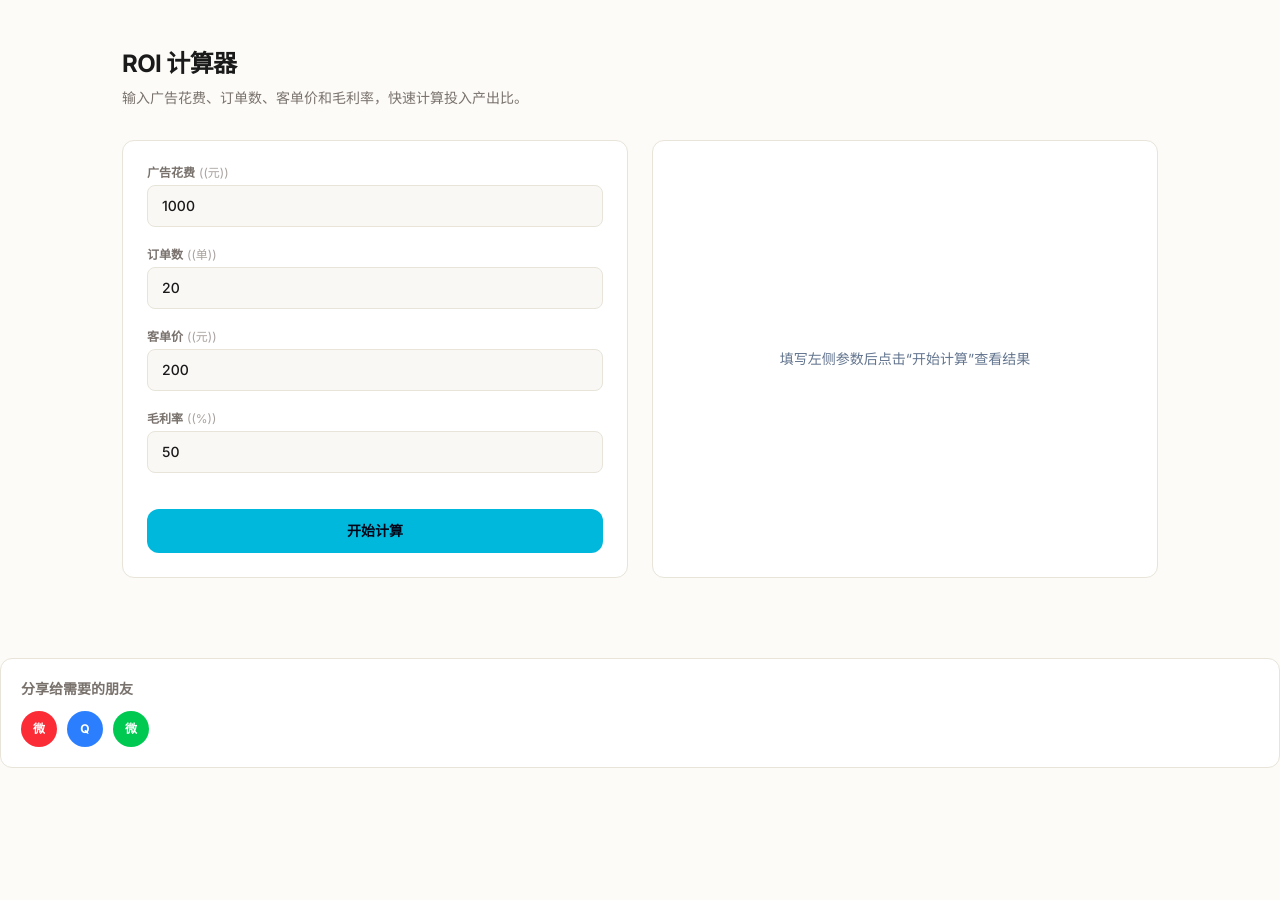
RoiCalculatorPage › recalculates when inputs change and button is clicked
# clear adSpend and type a new value
Replace the text in the number field labelled "广告花费((元))" with "500" at (375, 206), box [147,185,603,227]
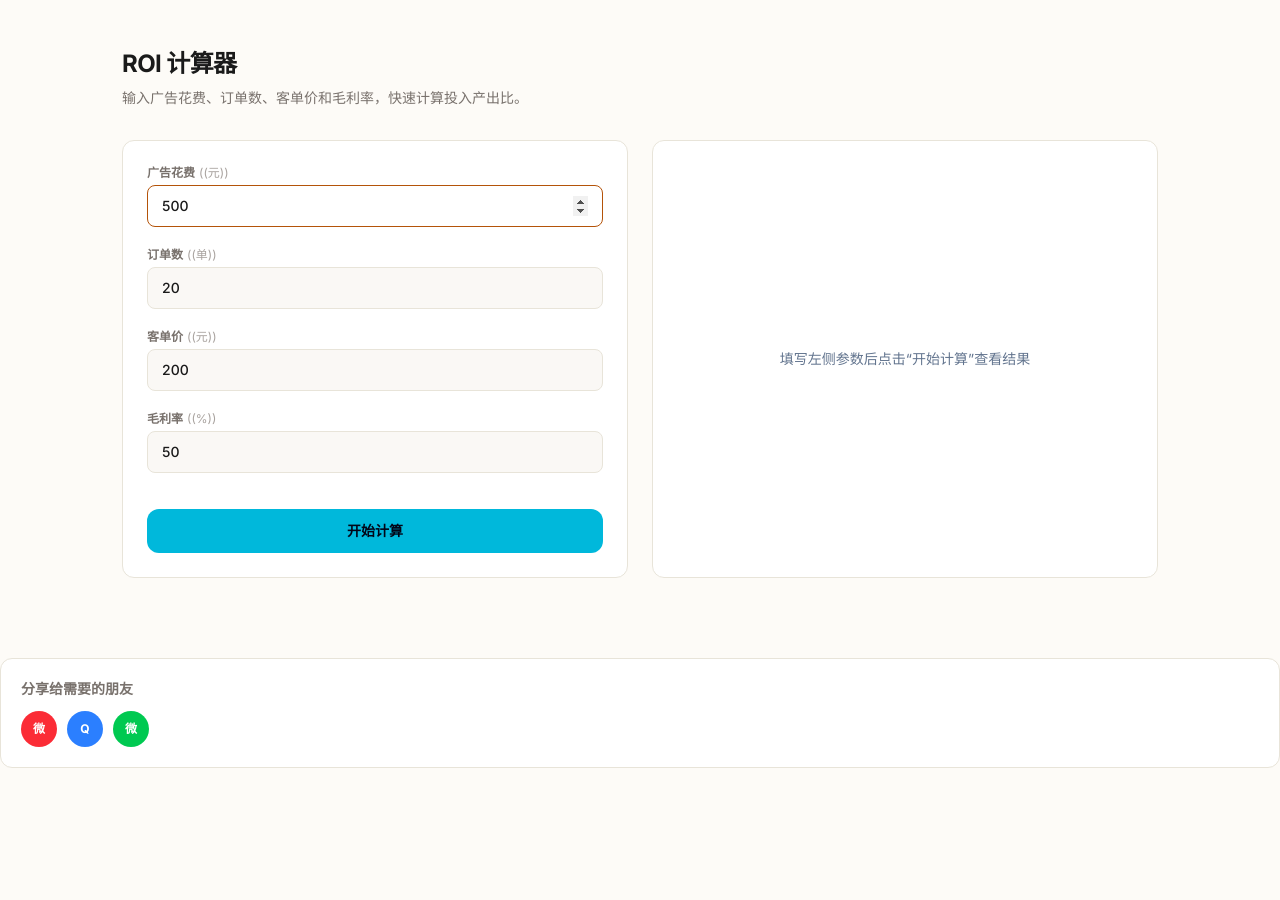
Click the button "开始计算" at (375, 531), box [147,509,603,553]
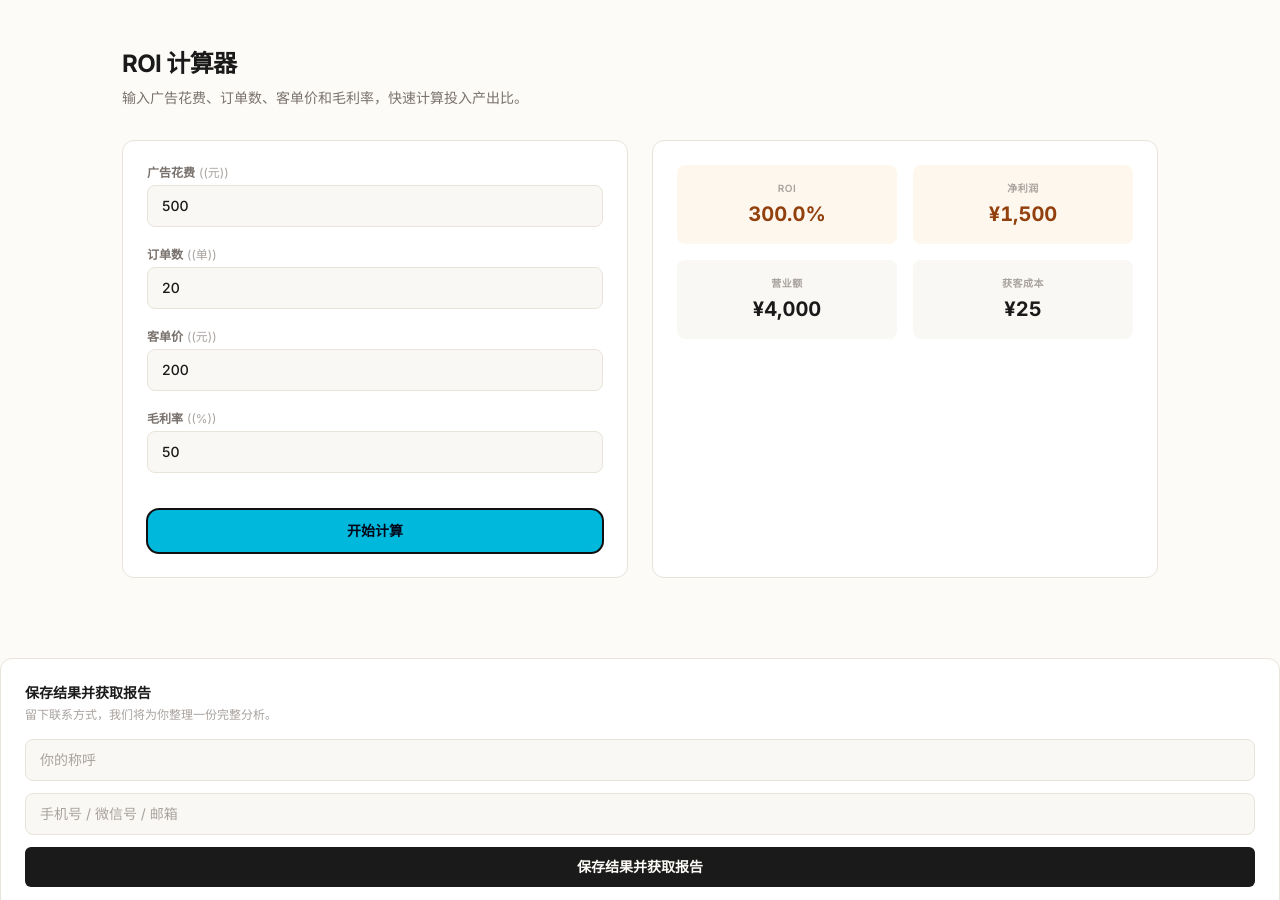
Now the text "300.0%" is shown, box [748,202,826,226]
